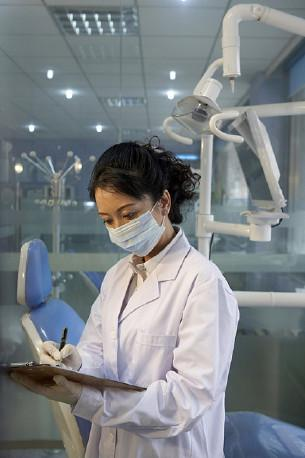OK: (101, 197, 163, 259)
